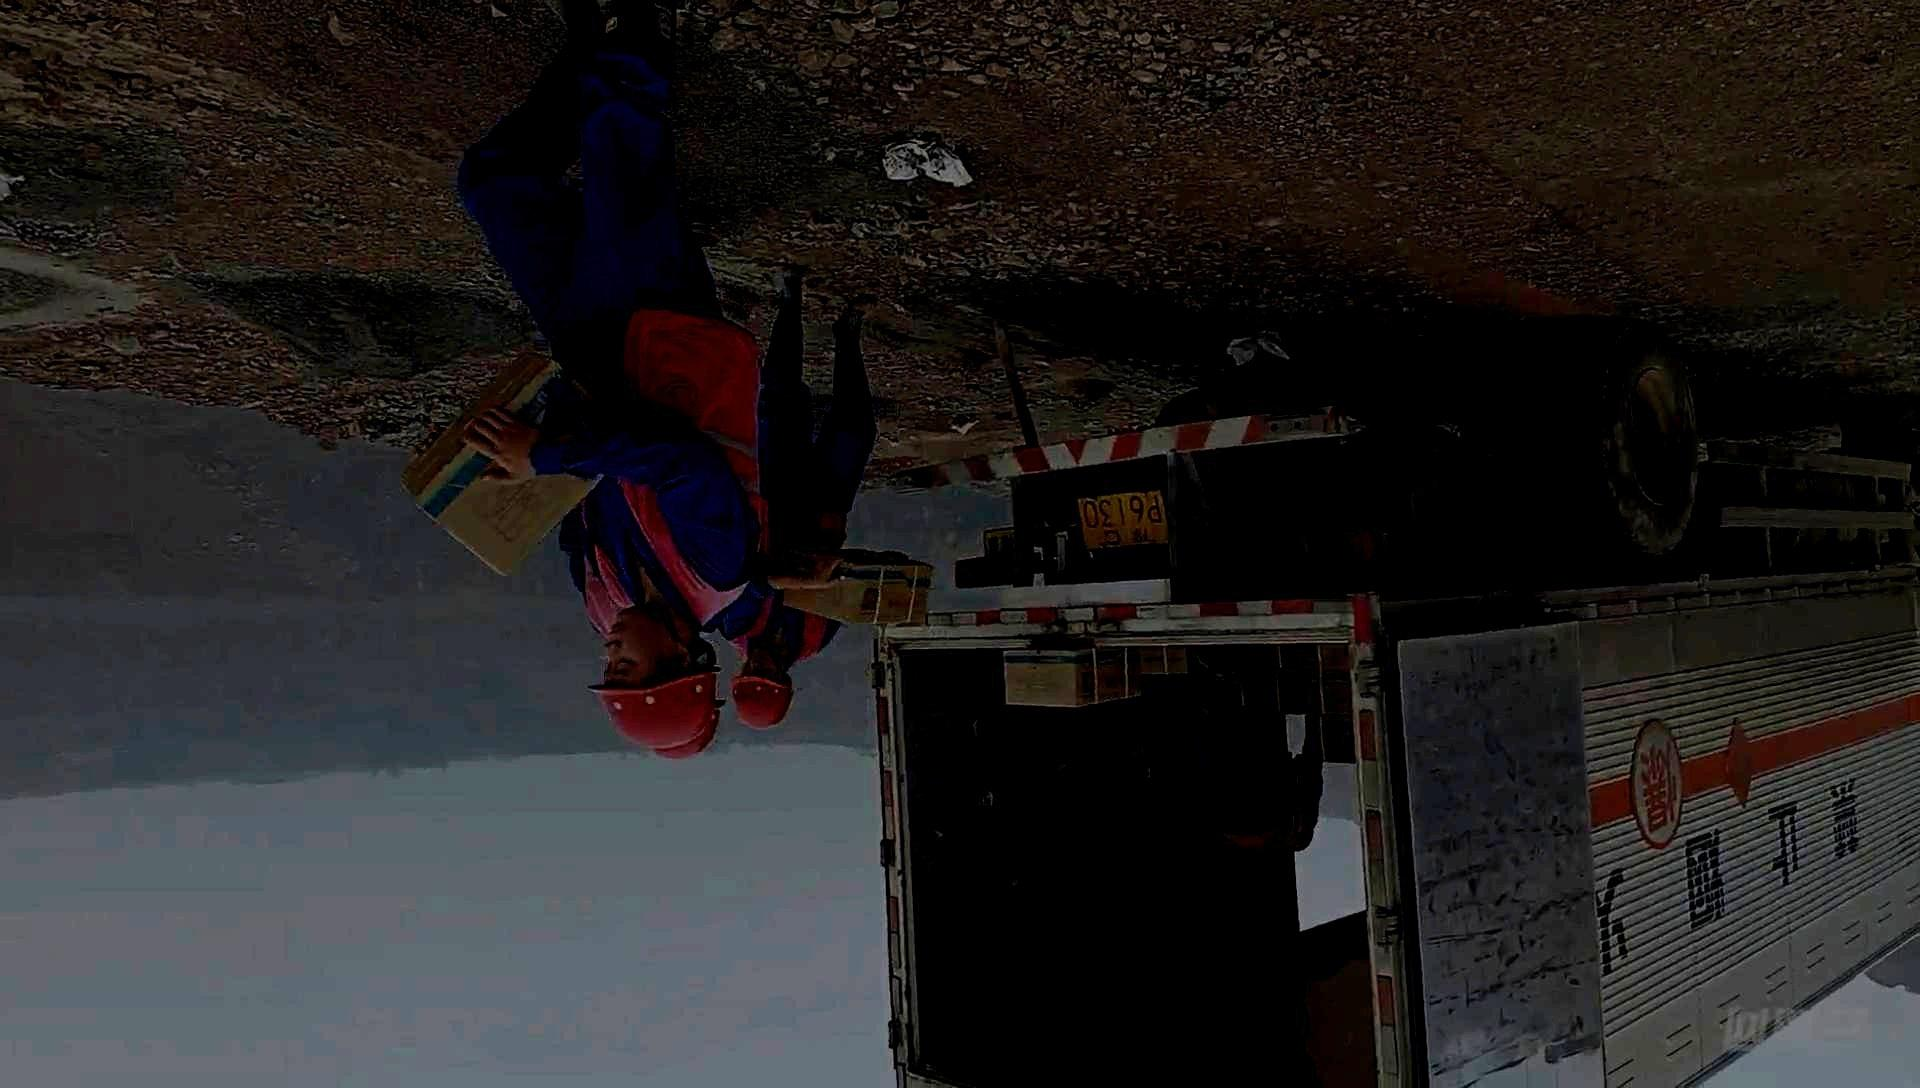helmet: (585, 604, 723, 750), (729, 650, 795, 731), (649, 698, 727, 760)
